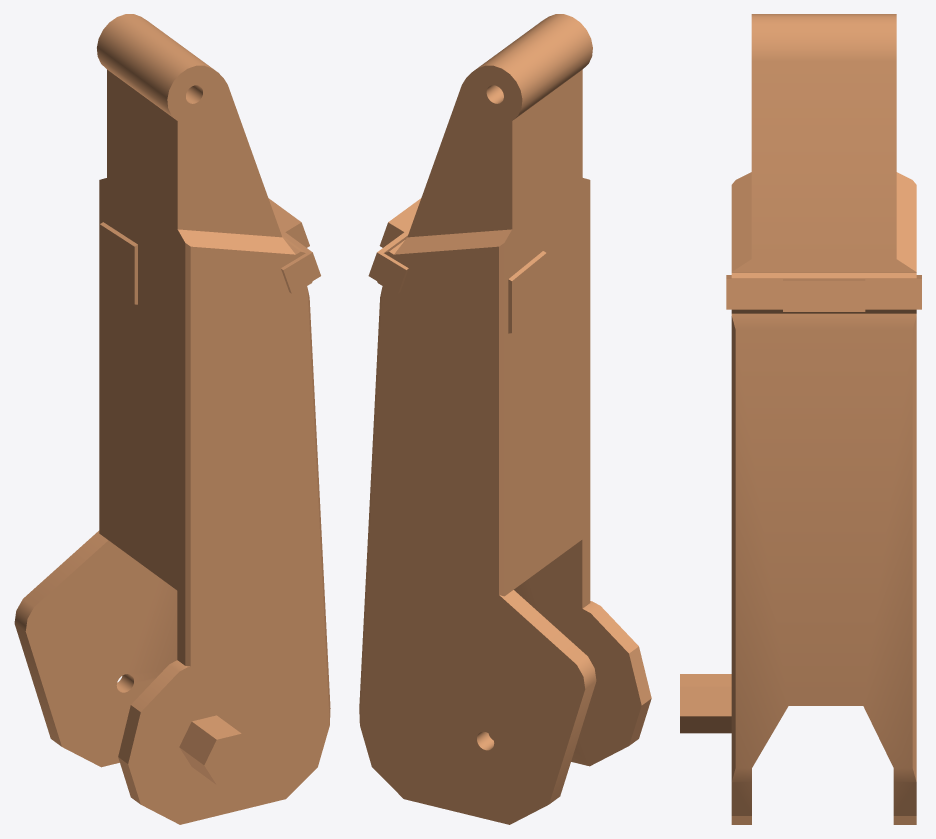
3 renders of one model, left to right at view 1: azimuth 30°, elevation 25°; view 2: azimuth 150°, elevation 25°; view 3: azimuth 270°, elevation 25°, orthographic. The views are drawn at different scales.
Parts seen in each view (by area): view 1: Link_2; view 2: Link_2; view 3: Link_2.
Part boxes in pixels (box(x1,y1,x2,y2)): Link_2: box(14, 14, 330, 824); Link_2: box(359, 14, 651, 824); Link_2: box(680, 14, 921, 824).
Bounding box in the file's own units: 0.2661 × 0.235 × 0.8223.
